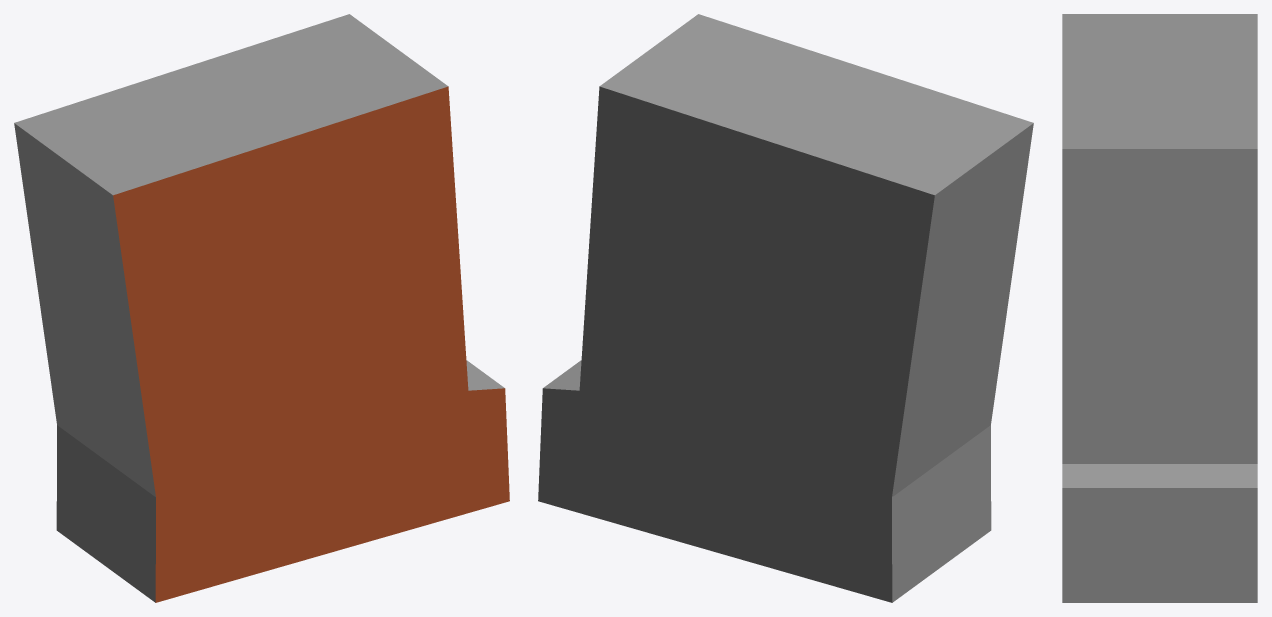
The model's file is construction_1110_assumed_A_Casa_h6m.obj.
3 renders of one model, left to right at view 1: azimuth 30°, elevation 25°; view 2: azimuth 150°, elevation 25°; view 3: azimuth 270°, elevation 25°, orthographic.
Visible parts, largest first — view 1: construction_1110_assumed_A_Casa; view 2: construction_1110_assumed_A_Casa; view 3: construction_1110_assumed_A_Casa.
Boxes of the visible parts, x1,y1,x2,y2 form: construction_1110_assumed_A_Casa: [14, 14, 509, 602]; construction_1110_assumed_A_Casa: [538, 14, 1033, 602]; construction_1110_assumed_A_Casa: [1062, 14, 1257, 602].
Size of the model in its own units: 13.89 by 14.89 by 6.
